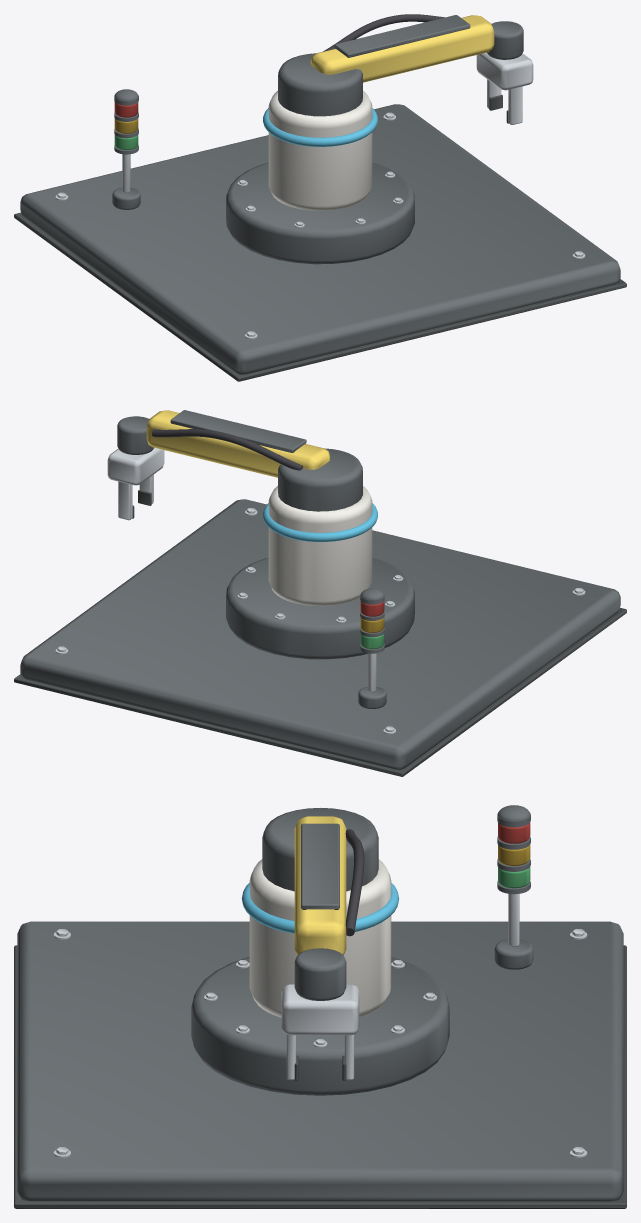
Rendered from brazo.glb.
The picture shows the model from 3 angles, top to bottom: view 1: azimuth 30°, elevation 25°; view 2: azimuth 150°, elevation 25°; view 3: azimuth 270°, elevation 25°; orthographic projection. The views are drawn at different scales.
Visible parts, largest first — view 1: zocalo, base, columna, brazo_viga, zocalo_goma, hombro_motor, brazo_tapa, pinza_cuerpo, columna_aro, pinza_muneca, brazo_cable, pinza_dedo-1 (+1 smaller); view 2: zocalo, base, columna, zocalo_goma, brazo_viga, hombro_motor, brazo_tapa, pinza_cuerpo, columna_aro, brazo_cable, pinza_muneca, pinza_dedo1 (+1 smaller); view 3: zocalo, base, columna, zocalo_goma, hombro_motor, brazo_viga, brazo_tapa, pinza_cuerpo, pinza_muneca, columna_aro, brazo_cable, torre_base (+1 smaller).
Part boxes in pixels (x1,y1,x2,y2): zocalo: (20,104,620,374); base: (226,162,414,264); columna: (268,91,372,210); brazo_viga: (310,15,494,82); zocalo_goma: (14,212,626,381); hombro_motor: (278,53,362,116); brazo_tapa: (334,15,470,57); pinza_cuerpo: (476,52,533,90); columna_aro: (263,108,377,146); pinza_muneca: (487,21,523,59); brazo_cable: (323,14,444,51); pinza_dedo-1: (508,86,522,124); zocalo: (20,499,620,769); base: (226,557,414,659); columna: (268,486,372,606); zocalo_goma: (14,607,626,776); brazo_viga: (146,410,330,477); hombro_motor: (278,448,362,511); brazo_tapa: (170,410,306,452); pinza_cuerpo: (107,447,164,485); columna_aro: (263,503,377,541); brazo_cable: (152,429,302,470); pinza_muneca: (117,416,153,454); pinza_dedo1: (118,481,132,520); zocalo: (17,921,623,1201); base: (191,957,449,1095); columna: (249,859,391,1017); zocalo_goma: (14,945,626,1208); hombro_motor: (262,808,378,891); brazo_viga: (294,816,346,954); brazo_tapa: (301,823,339,909); pinza_cuerpo: (281,984,359,1035); pinza_muneca: (294,948,346,1000); columna_aro: (241,883,399,933); brazo_cable: (345,829,364,936); torre_base: (494,939,533,969).
Bounding box in the file's own units: 0.965 × 0.478 × 0.95.
